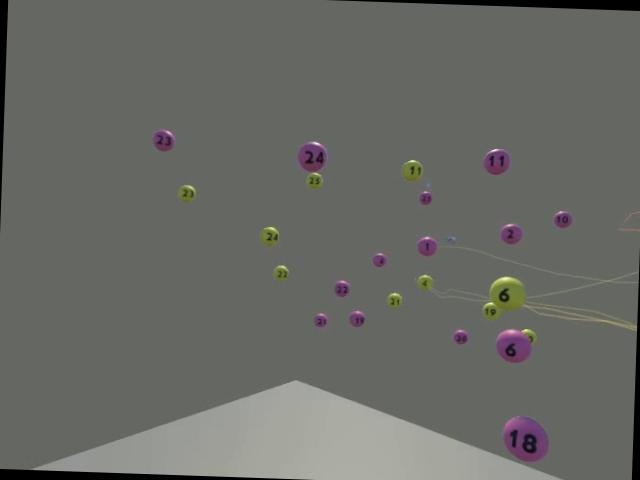ball_01_pink: (417, 235, 438, 256)
ball_02_pink: (499, 222, 523, 244)
ball_04_pink: (371, 252, 387, 268)
ball_04_yellow: (416, 273, 433, 290)
ball_06_pink: (494, 329, 531, 362)
ball_06_yellow: (488, 275, 526, 311)
ball_10_pink: (552, 210, 572, 228)
ball_11_pink: (482, 147, 510, 174)
ball_11_yellow: (401, 158, 423, 182)
ball_18_pink: (502, 414, 549, 462)
ball_19_pink: (348, 310, 365, 328)
ball_19_yellow: (481, 300, 500, 320)
ball_20_pink: (451, 328, 468, 344)
ball_21_pink: (313, 312, 327, 326)
ball_21_yellow: (386, 291, 402, 307)
ball_22_pink: (333, 280, 350, 298)
ball_22_yellow: (272, 264, 288, 281)
ball_23_pink: (151, 129, 175, 152)
ball_23_yellow: (176, 184, 195, 203)
ball_24_pink: (296, 140, 328, 172)
ball_24_yellow: (258, 226, 278, 246)
ball_25_pink: (418, 190, 432, 204)
ball_25_yellow: (304, 171, 322, 189)
ball_unknown: (520, 328, 537, 346)
